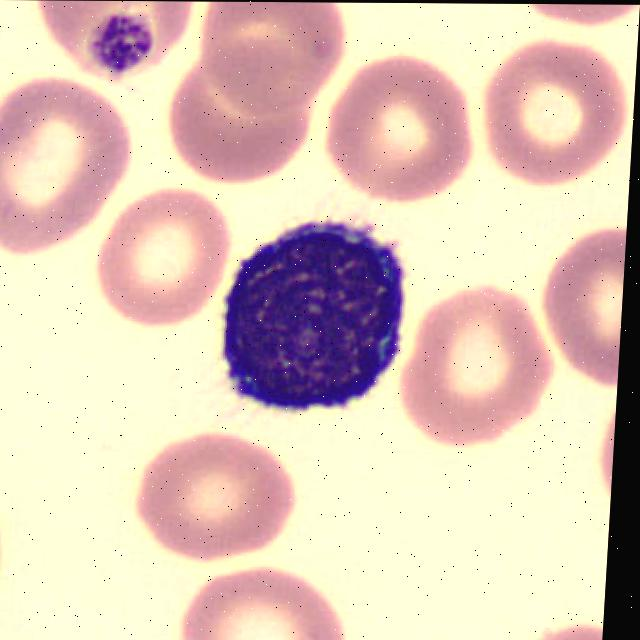lymphocyte: (213, 202, 409, 406)
platelets: (94, 12, 162, 71)
rbc: (398, 295, 551, 450), (0, 75, 134, 246), (131, 432, 303, 563), (330, 57, 484, 198), (96, 190, 242, 322), (490, 40, 622, 184), (166, 65, 308, 185), (195, 1, 351, 105), (532, 235, 626, 387), (175, 569, 346, 640), (29, 0, 185, 76), (597, 389, 617, 515), (517, 4, 640, 23), (0, 488, 17, 616), (528, 614, 604, 640)
